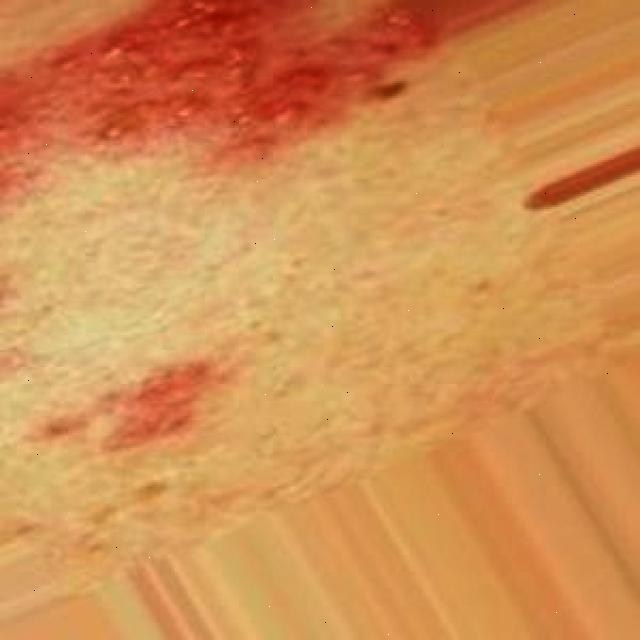Shingles: (0, 0, 436, 197), (33, 356, 217, 463)
